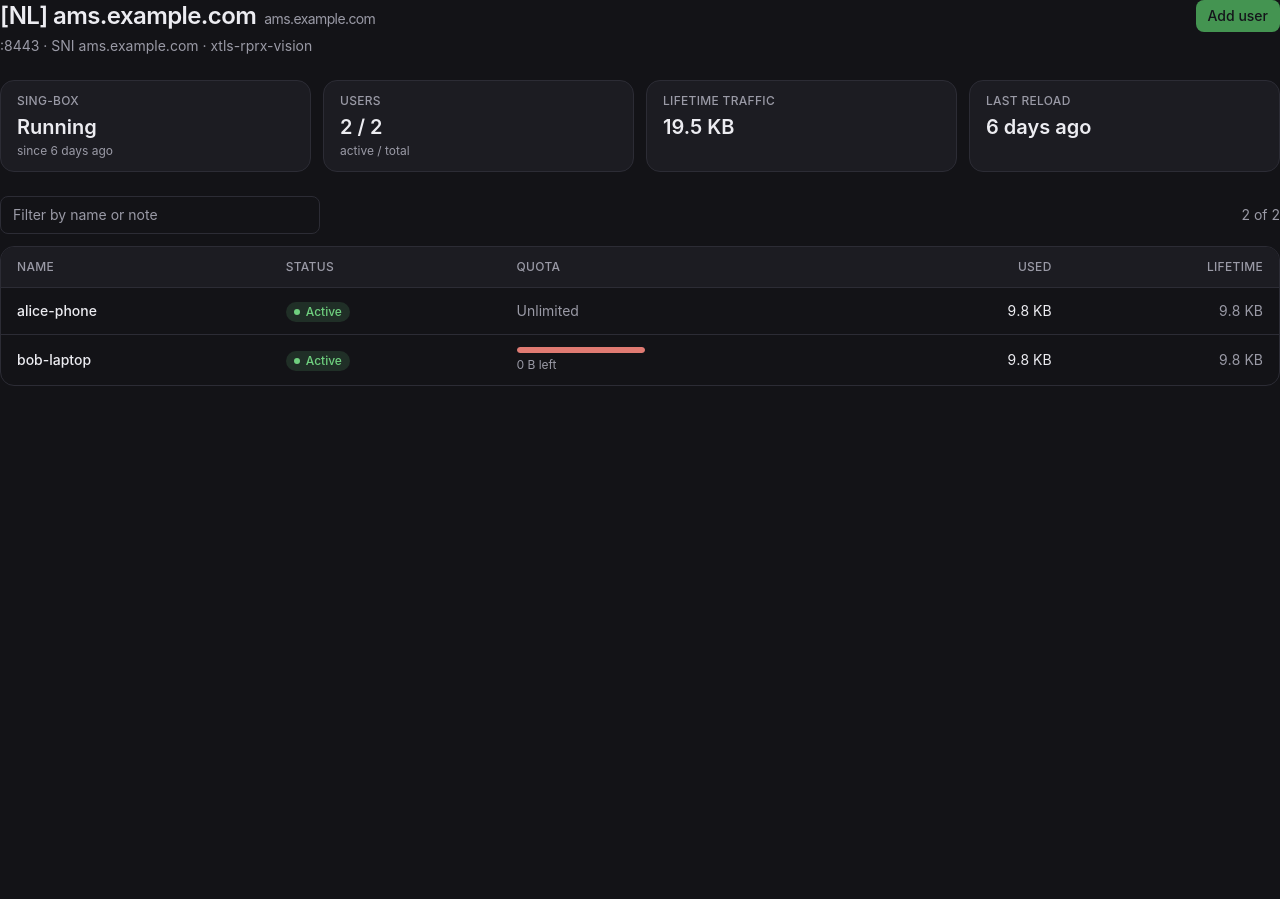
ServerPage › puts the open user in the URL, so it survives a reload and Back closes it
Click the text "alice-phone".
click(57, 310)  # box [17, 302, 97, 319]
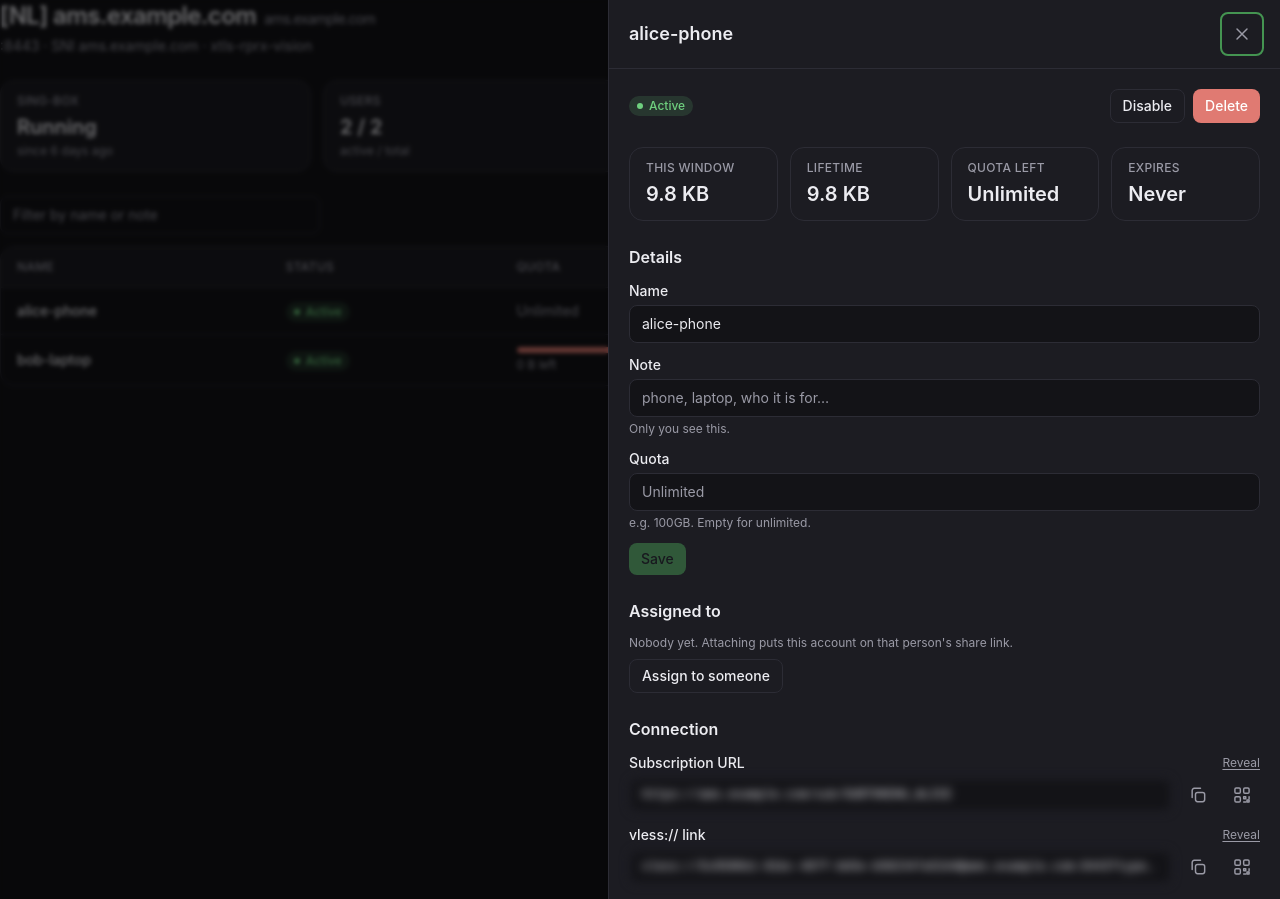
Now the heading "Connection" is shown, box [629, 719, 718, 739]
